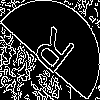R: (25, 25, 77, 83)
